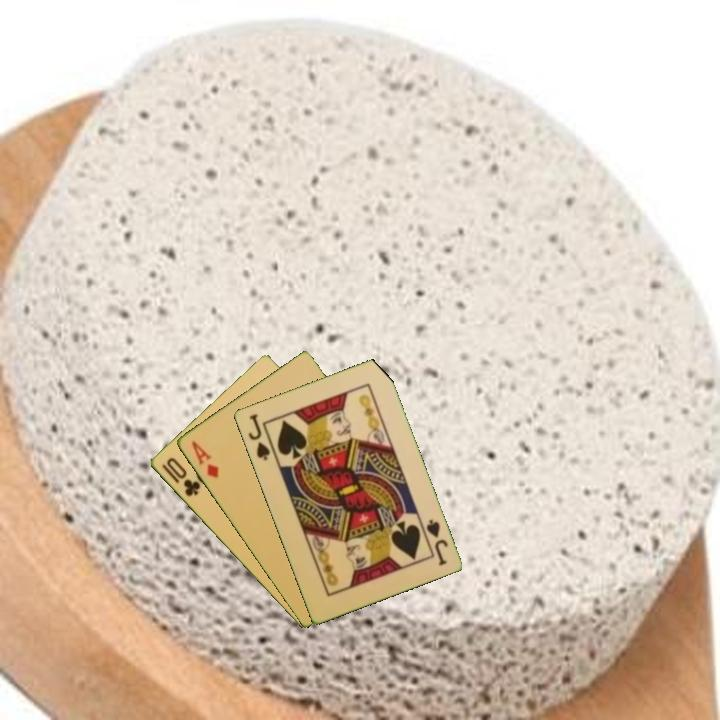10c: (158, 454, 203, 500)
Ad: (187, 437, 222, 481)
Js: (244, 410, 273, 463), (422, 515, 450, 568)
